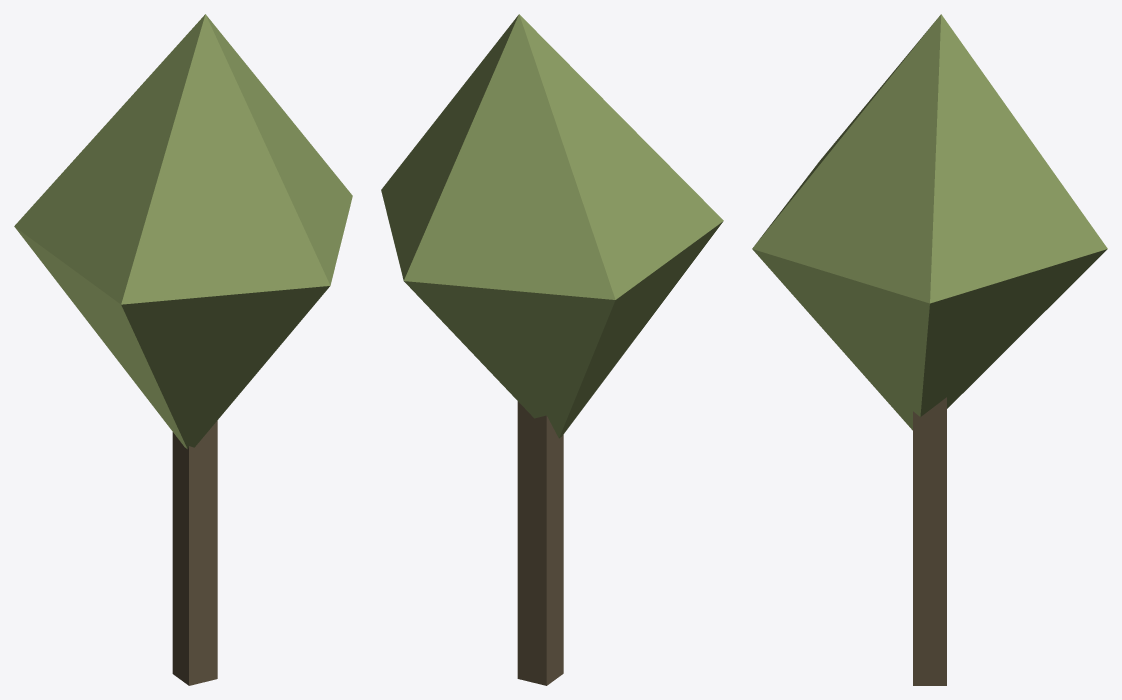
File: ua_young_willow_lod.obj
The picture shows the model from 3 angles, left to right: view 1: azimuth 30°, elevation 25°; view 2: azimuth 150°, elevation 25°; view 3: azimuth 270°, elevation 25°; orthographic projection. The views are drawn at different scales.
Visible parts, largest first — view 1: ua_young_willow_lod; view 2: ua_young_willow_lod; view 3: ua_young_willow_lod.
Part boxes in pixels (<box>): ua_young_willow_lod: <box>14,14,352,685</box>; ua_young_willow_lod: <box>381,14,723,685</box>; ua_young_willow_lod: <box>752,14,1107,685</box>.
Size of the model in its own units: 1.19 by 2.62 by 1.26.
